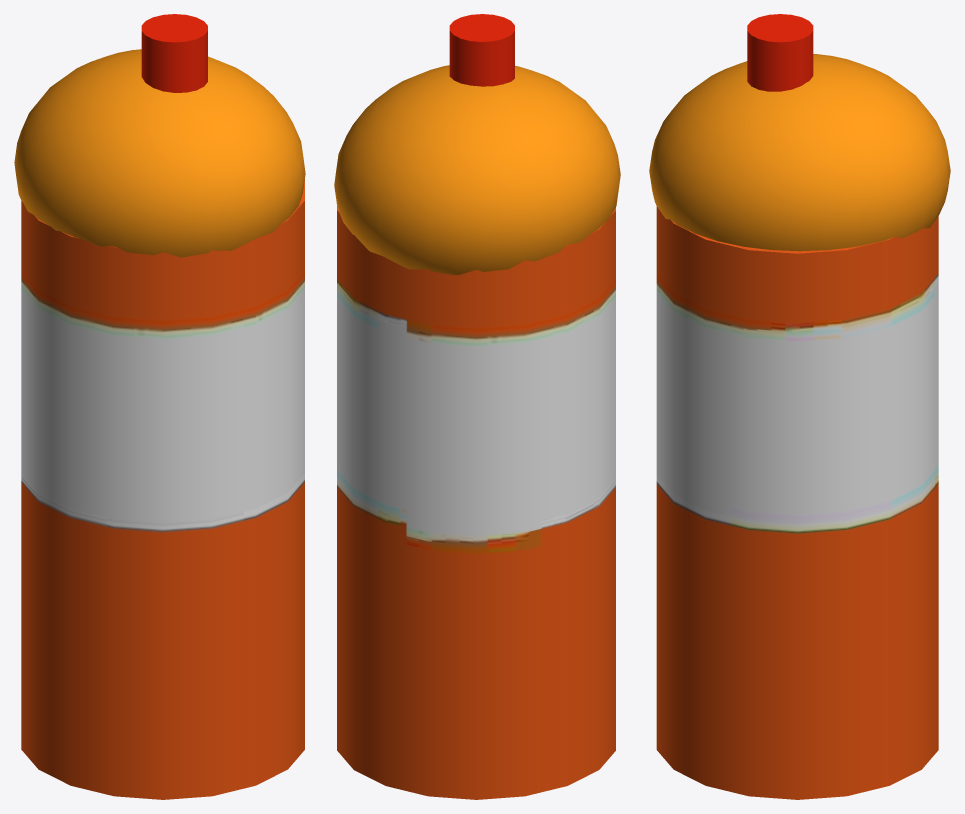
Rendered from Orangegas.FBX.
3 renders of one model, left to right at view 1: azimuth 30°, elevation 25°; view 2: azimuth 150°, elevation 25°; view 3: azimuth 270°, elevation 25°, orthographic.
Parts seen in each view (by area): view 1: Cylinder126, Sphere249, Cylinder127; view 2: Cylinder126, Sphere249, Cylinder127; view 3: Cylinder126, Sphere249, Cylinder127.
Part boxes in pixels (box(x1,y1,x2,y2)): Cylinder126: box(21, 179, 304, 799); Sphere249: box(14, 49, 305, 257); Cylinder127: box(141, 14, 207, 92); Cylinder126: box(337, 205, 615, 799); Sphere249: box(334, 65, 620, 275); Cylinder127: box(449, 14, 514, 86); Cylinder126: box(656, 206, 938, 799); Sphere249: box(649, 54, 950, 251); Cylinder127: box(747, 14, 813, 91).
Size of the model in its own units: 6.11 by 6.38 by 16.65.
Materials: 3 (3 with a texture image).
